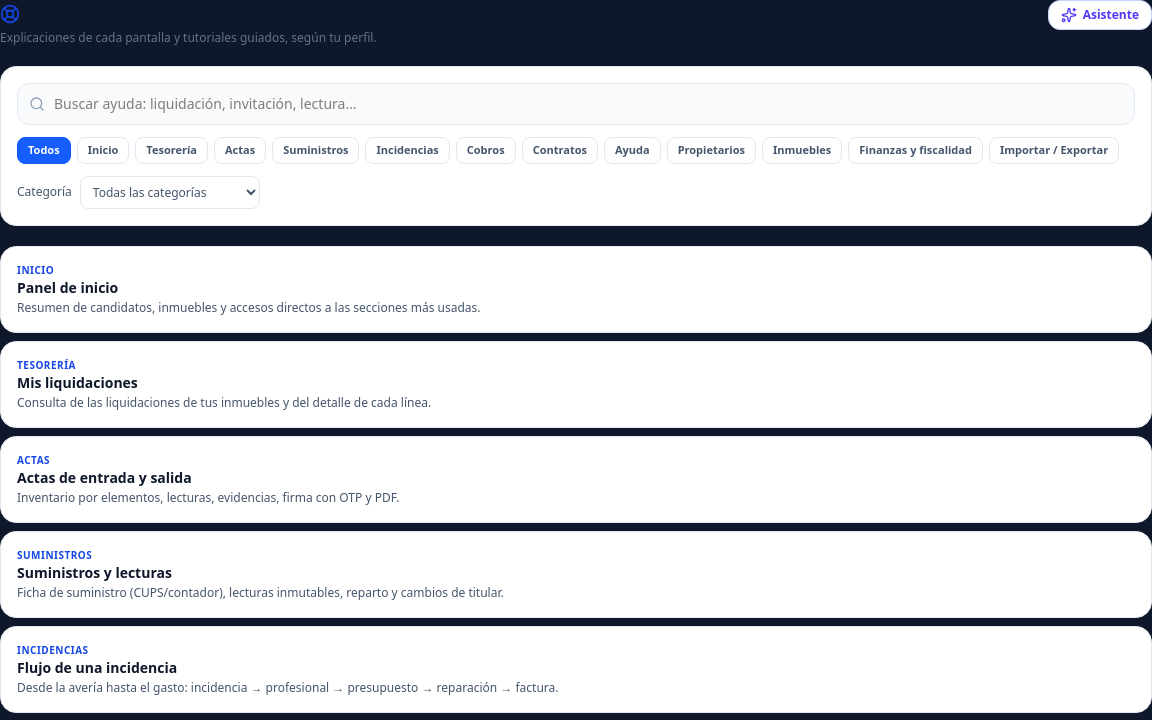
Test: BLOQUE 9 · Centro de Ayuda › no expone categorías ni entradas de administración al propietario; ofrece acceso al asistente en el centro
Click the button "Asistente". click: (1100, 15)
box: left=1048, top=0, right=1151, bottom=30
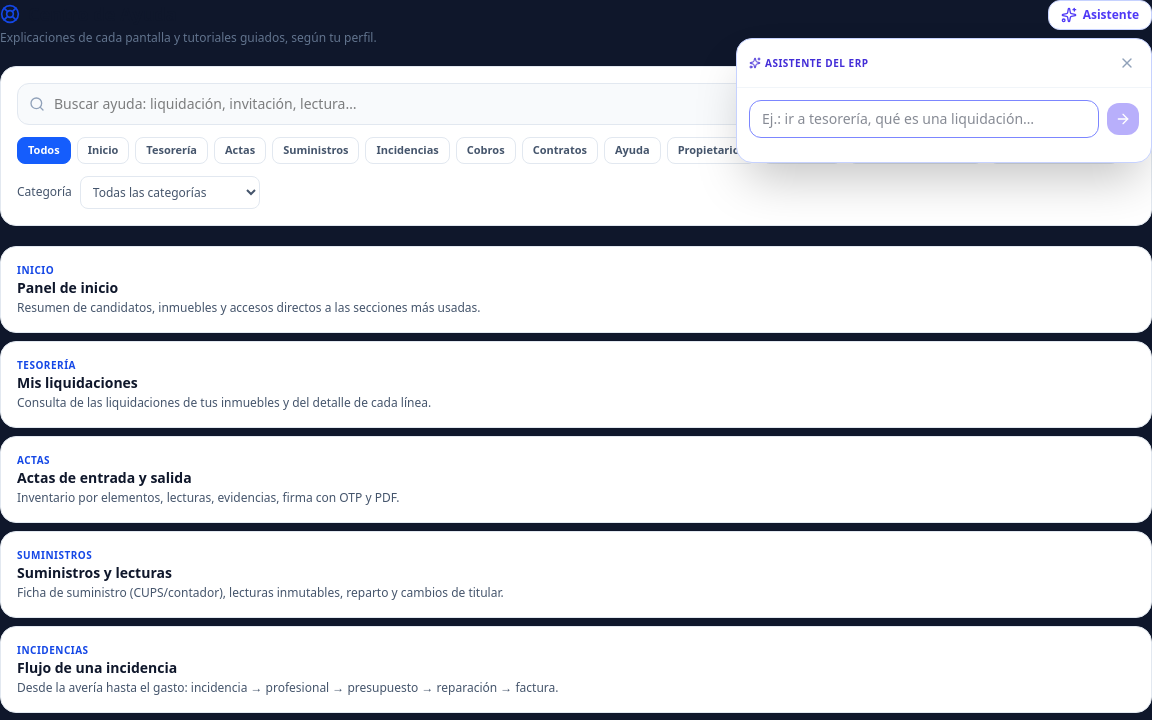
Expected: the dialog "Asistente" is shown, left=736, top=38, right=1151, bottom=163
